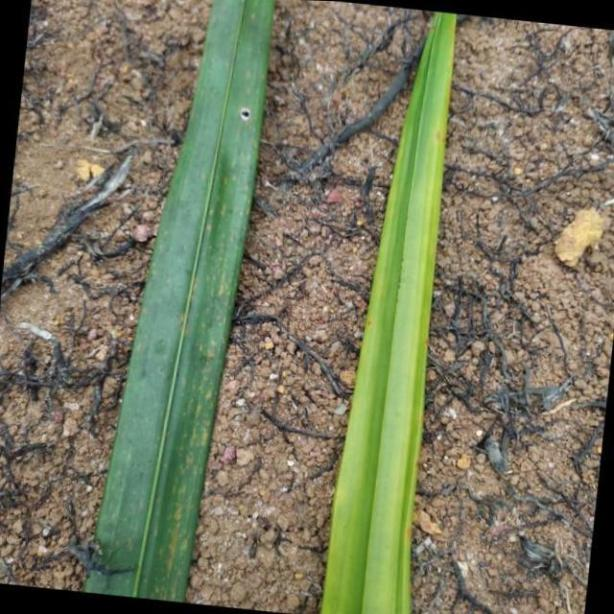nitrogen: (316, 12, 456, 614)
